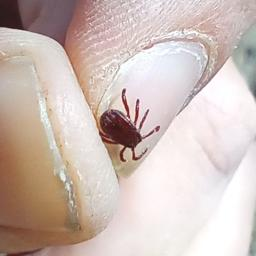Rhipicephalus sanguineus: (95, 87, 161, 162)
